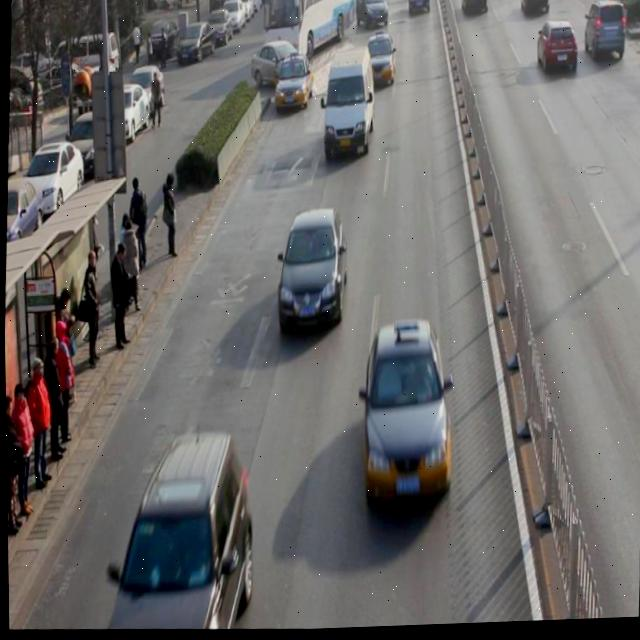car: (96, 425, 257, 635), (360, 321, 456, 510), (276, 209, 349, 337), (249, 42, 311, 95), (582, 2, 627, 66), (273, 55, 315, 118), (535, 22, 579, 81), (364, 35, 396, 92), (354, 0, 389, 34), (521, 0, 551, 22), (460, 0, 489, 21), (407, 0, 431, 20), (482, 0, 504, 0)
truck: (321, 46, 377, 166)
van: (262, 0, 356, 67)
